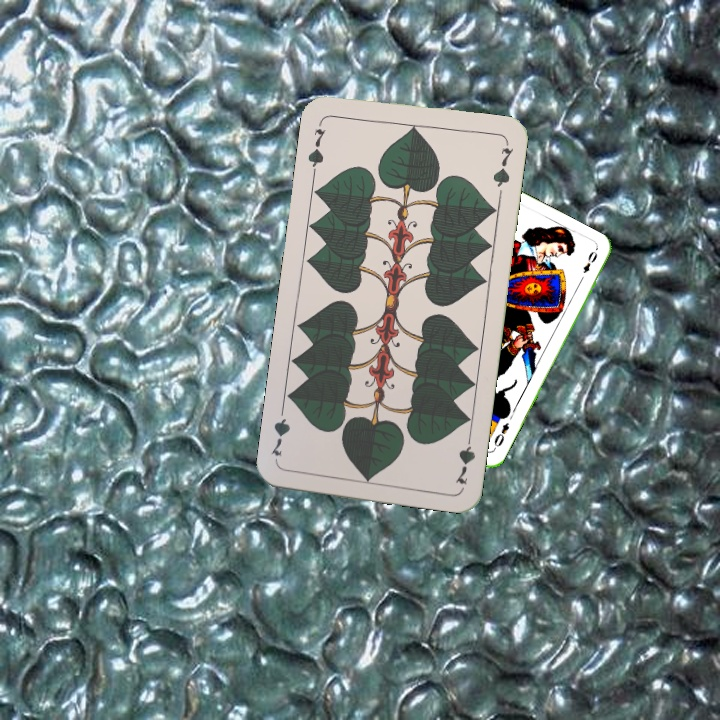EO: (490, 418, 512, 453)
G7: (451, 428, 478, 487), (303, 124, 328, 176)
